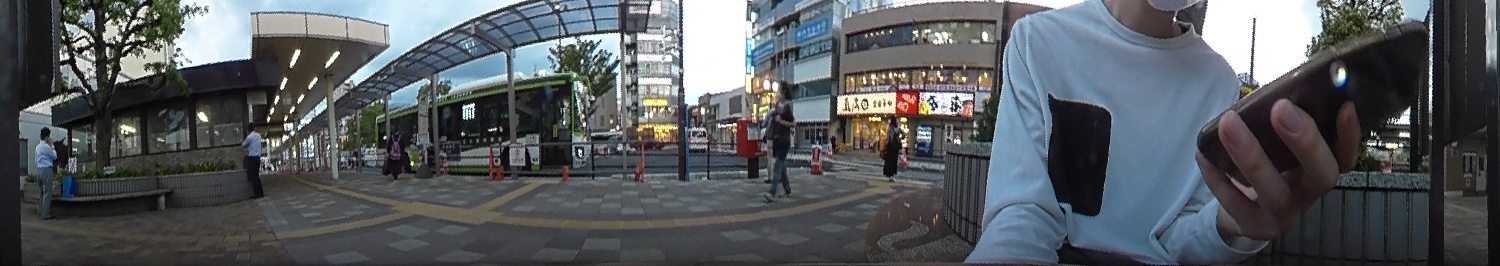person: (759, 79, 796, 200), (31, 125, 60, 218), (240, 120, 265, 200), (878, 112, 905, 176), (384, 124, 404, 180)
